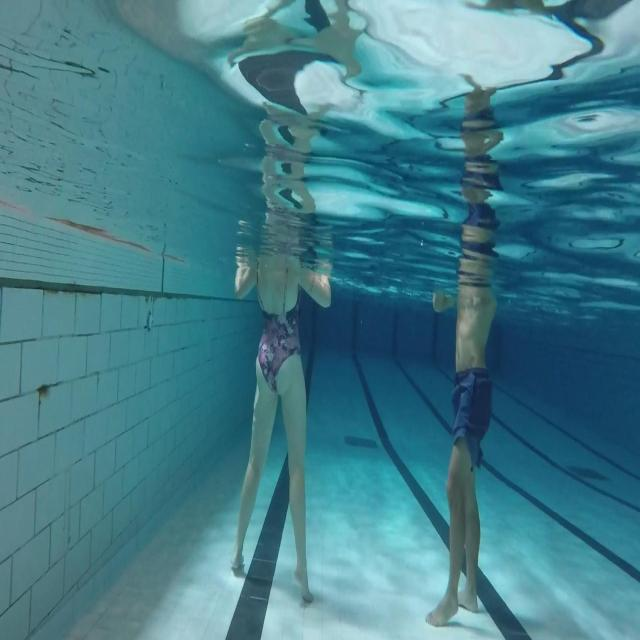human: (230, 114, 332, 604), (424, 75, 505, 626)
